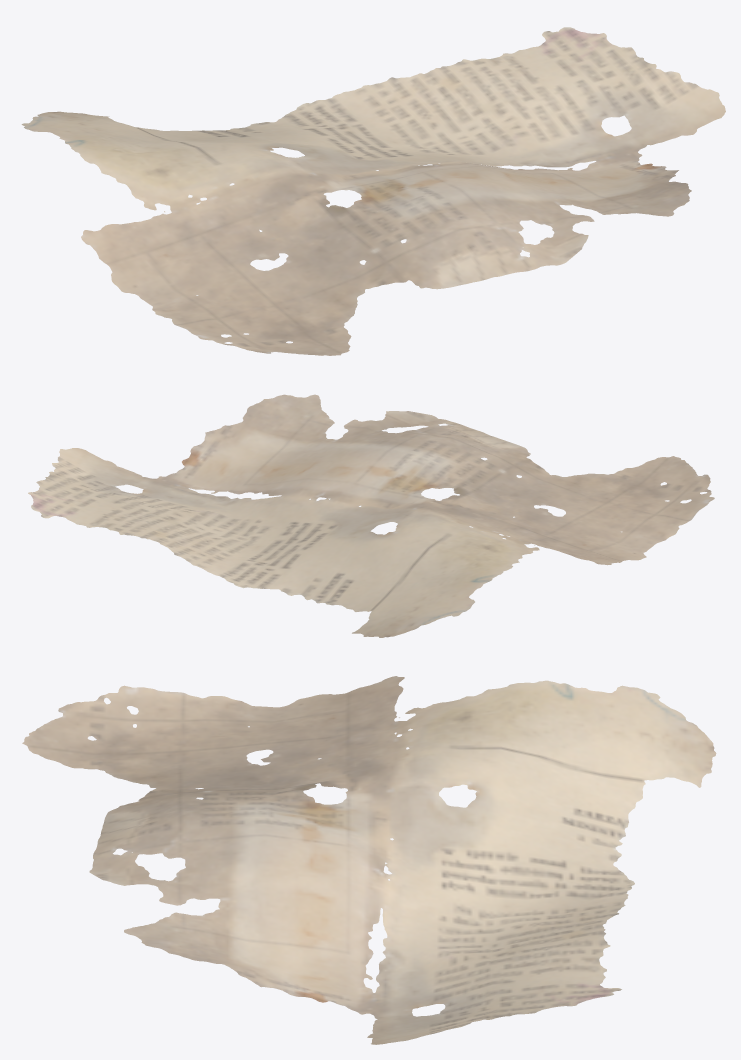
Rendered from SM_Paper_011.fbx.
3 views of the same model, one above another, from view 1: azimuth 30°, elevation 25°; view 2: azimuth 150°, elevation 25°; view 3: azimuth 270°, elevation 25° (orthographic). The views are drawn at different scales.
Parts seen in each view (by area): view 1: SM_Paper_011; view 2: SM_Paper_011; view 3: SM_Paper_011.
Part boxes in pixels (x1,y1,x2,y2): SM_Paper_011: (21,27,725,355); SM_Paper_011: (28,394,714,637); SM_Paper_011: (22,676,716,1044).
Size of the model in its own units: 44.63 by 37.57 by 4.28.
1 material, 1 textured.
